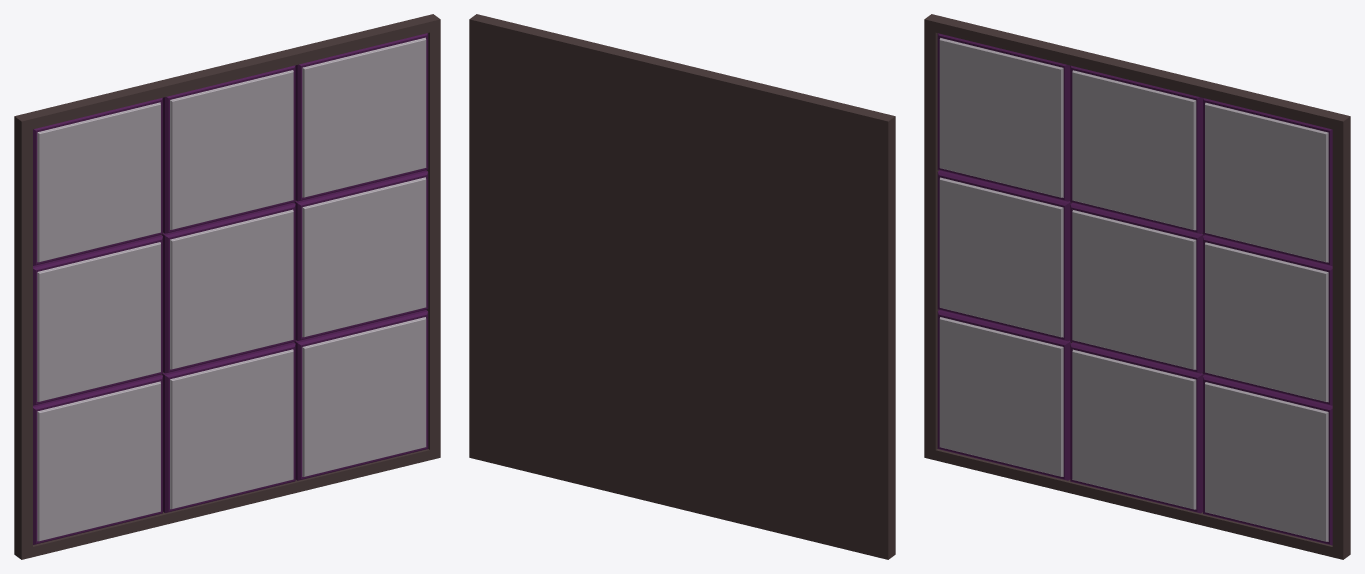
File: Puzzle Deslizable Full.fbx
The picture shows the model from 3 angles, left to right: view 1: azimuth 30°, elevation 25°; view 2: azimuth 150°, elevation 25°; view 3: azimuth 330°, elevation 25°; orthographic projection.
Parts seen in each view (by area): view 1: pCube11, Pieza_Abajo_Izq, Pieza_Medio_Izq, Pieza_Abajo_Med, Pieza_Medio_Med, Pieza_Arriba_Izq, Pieza_Arriba_Med, Pieza_Medio_Der, Pieza_Abajo_Der, Pieza_Arriba_Der; view 2: pCube11; view 3: pCube11, Pieza_Medio_Der, Pieza_Abajo_Der, Pieza_Abajo_Med, Pieza_Medio_Med, Pieza_Arriba_Der, Pieza_Arriba_Med, Pieza_Abajo_Izq, Pieza_Medio_Izq, Pieza_Arriba_Izq.
Part boxes in pixels (box(x1,y1,x2,y2)): pCube11: box(14, 14, 440, 559); Pieza_Abajo_Izq: box(294, 310, 428, 480); Pieza_Medio_Izq: box(294, 170, 428, 340); Pieza_Abajo_Med: box(162, 342, 295, 512); Pieza_Medio_Med: box(162, 202, 295, 373); Pieza_Arriba_Izq: box(295, 33, 428, 201); Pieza_Arriba_Med: box(163, 65, 295, 233); Pieza_Medio_Der: box(33, 235, 162, 405); Pieza_Abajo_Der: box(33, 374, 162, 544); Pieza_Arriba_Der: box(33, 97, 162, 265); pCube11: box(469, 14, 895, 559); pCube11: box(924, 14, 1350, 559); Pieza_Medio_Der: box(937, 170, 1070, 341); Pieza_Abajo_Der: box(937, 310, 1070, 480); Pieza_Abajo_Med: box(1070, 342, 1203, 513); Pieza_Medio_Med: box(1070, 203, 1203, 373); Pieza_Arriba_Der: box(937, 33, 1070, 201); Pieza_Arriba_Med: box(1070, 65, 1202, 233); Pieza_Abajo_Izq: box(1203, 375, 1332, 545); Pieza_Medio_Izq: box(1203, 235, 1332, 405); Pieza_Arriba_Izq: box(1203, 98, 1332, 265).
Bounding box in the file's own units: 13.11 × 13.11 × 0.4632.
